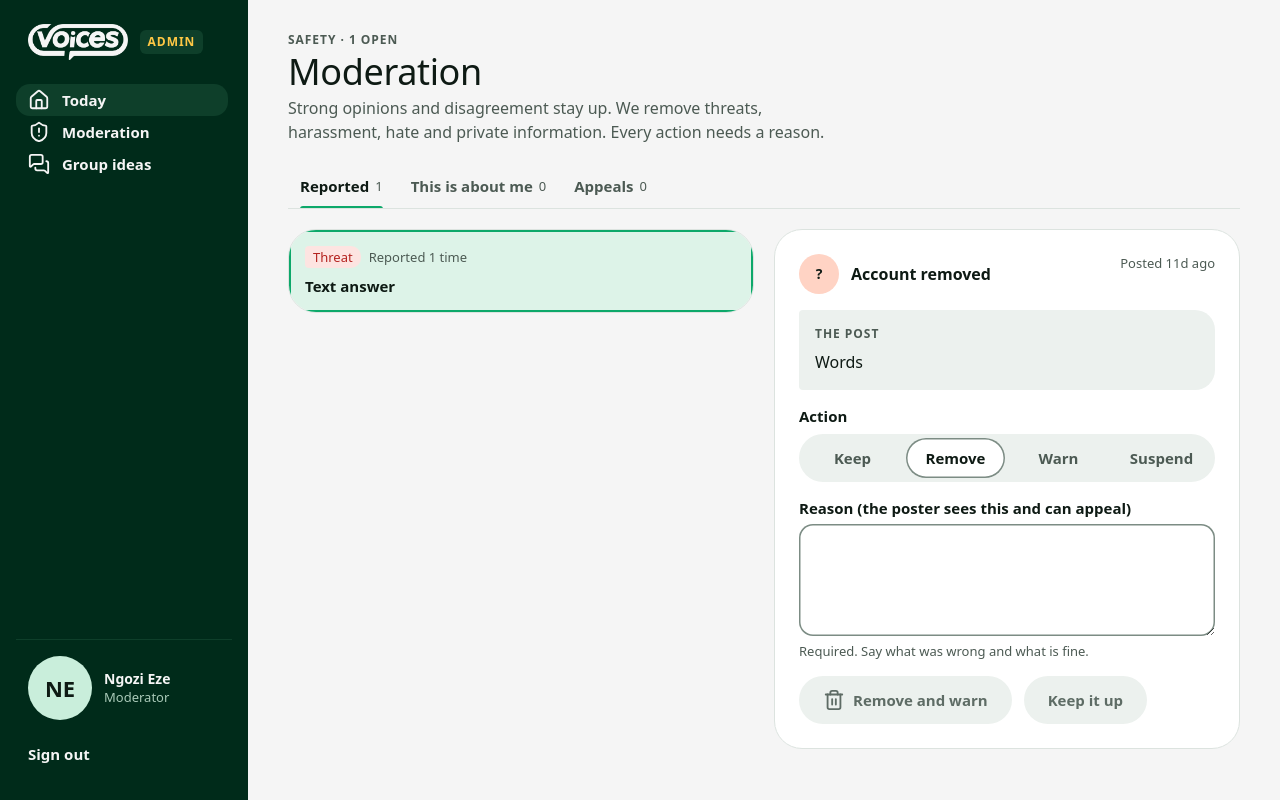
Test case: G2 and G3: moderation › Suspend on a reported post says the post comes down, and the button says so
Expected: the element named "Moderation queues" is shown, [288, 164, 1240, 209]
Click the tab "Suspend" at (1162, 458), box [1112, 438, 1211, 478]
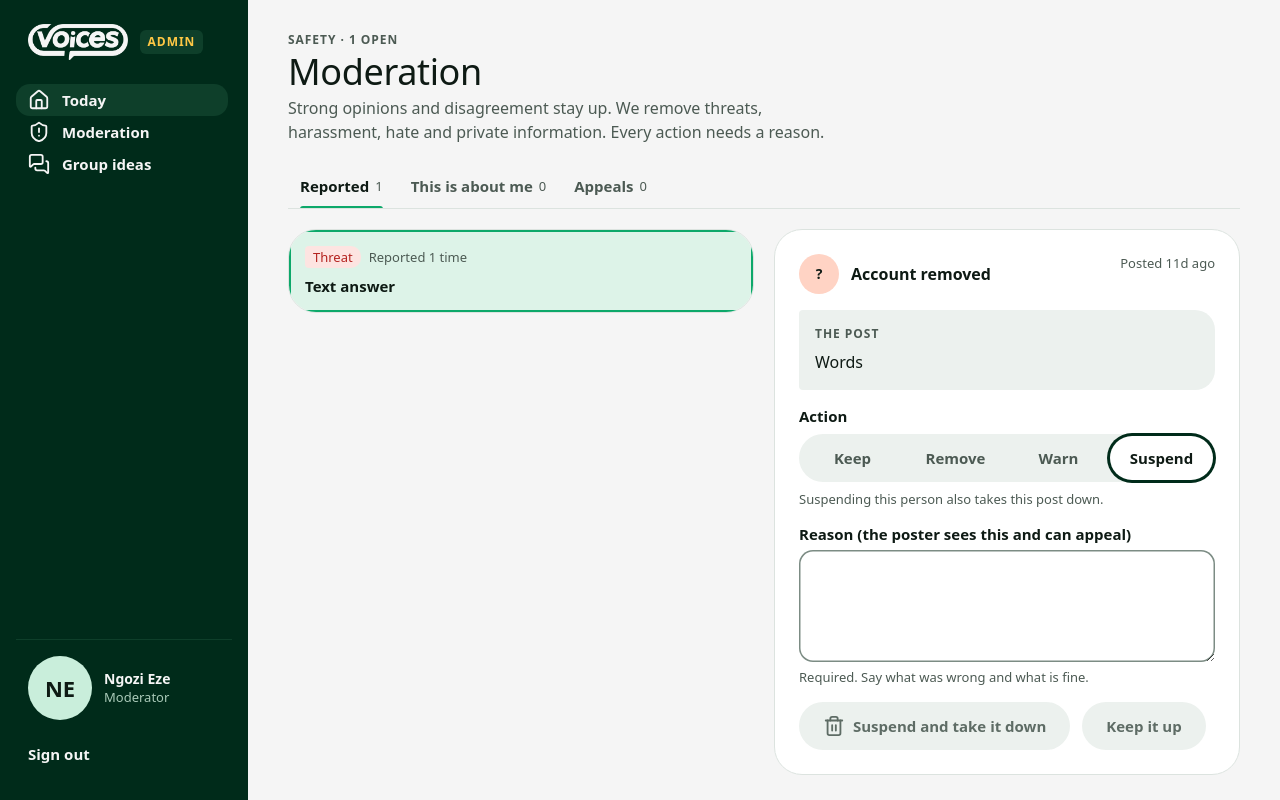
Expected: the text "Suspending this person also takes this post down." is shown, [799, 490, 1104, 508]
Expected: the button "Suspend and take it down" is shown, [799, 702, 1070, 750]
